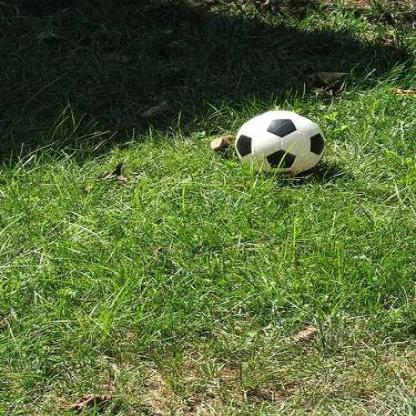ball: (235, 110, 325, 176)
